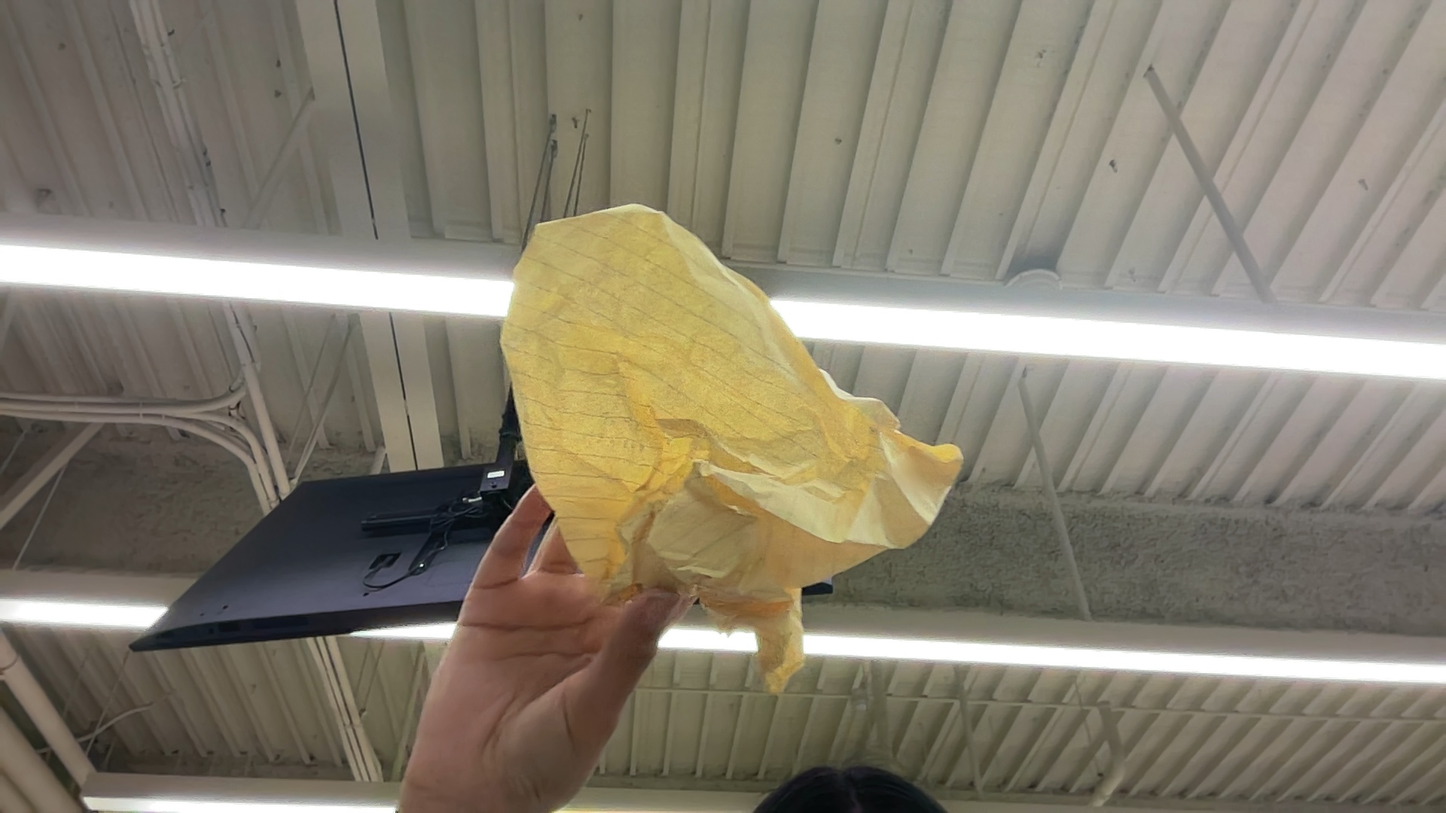Paper: (4, 403, 277, 611)
